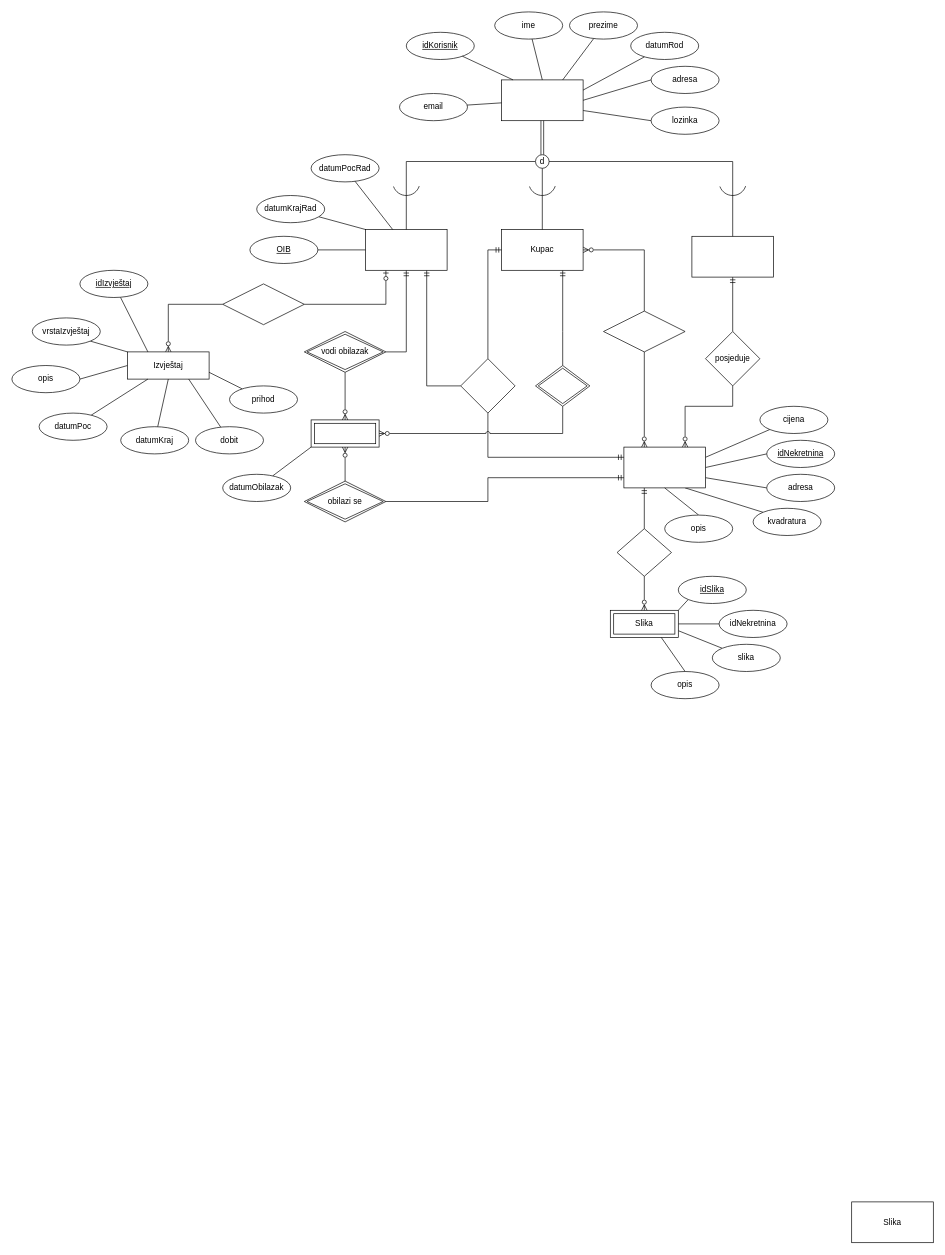
This 945x1255 diagram has some shape labels left out. Here are the shapes that lost their labels. From the top down, the centre of each, then its label:
(542,100): Korisnik
(406,249): Zaposlenik
(732,256): Vlasnik
(263,304): stvara
(644,331): je zainteresiran za
(487,385): prodaja
(562,385): obilazi
(344,433): Obilazak
(664,467): Nekretnina
(644,552): sadržava
